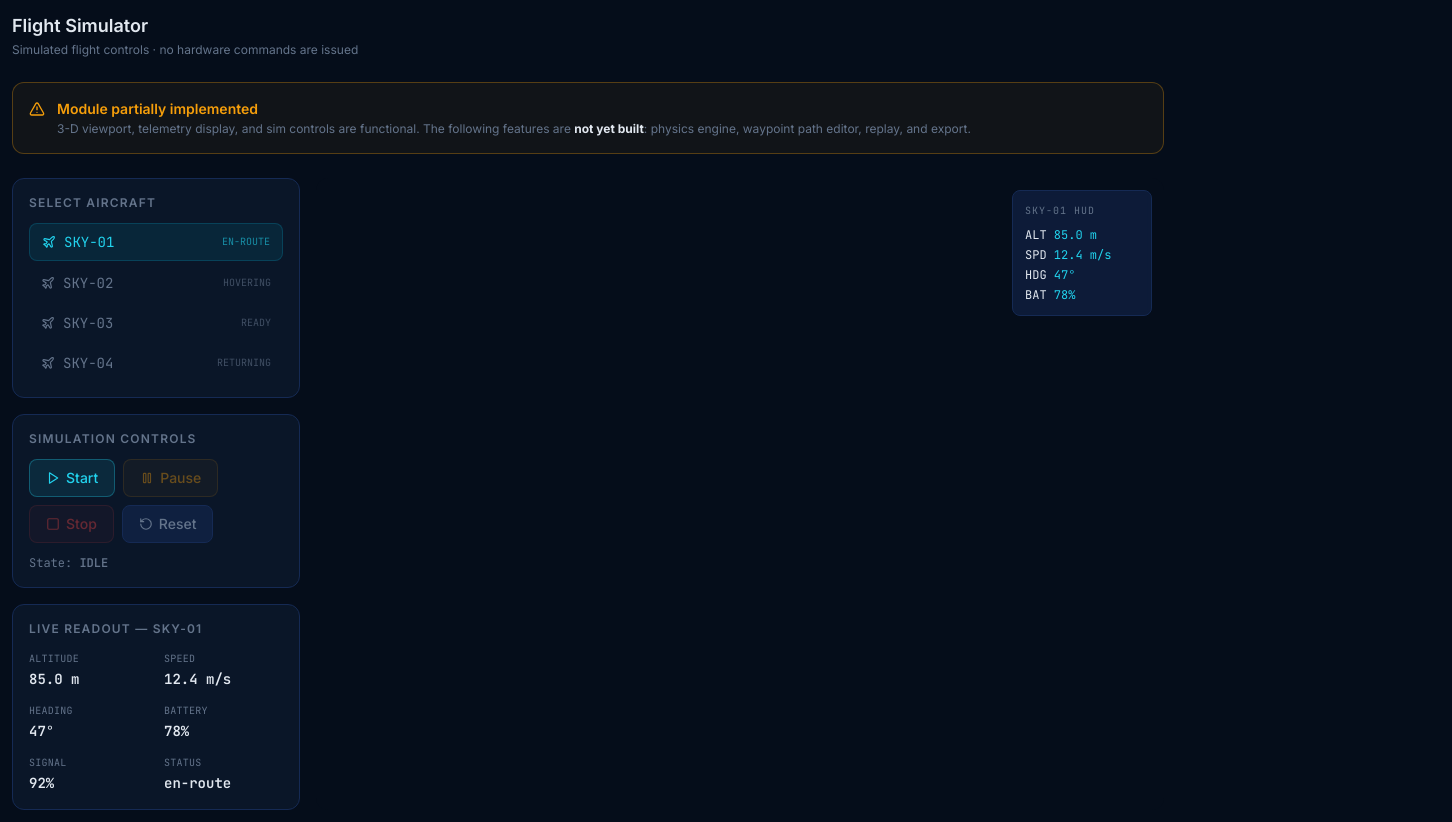
Scenario: FlightSimulatorPage › clicking Stop after Start disables Pause button
What coordinates should you click on to do the following:
click the button "Start"
I would click on:
 (72, 478)
Its box is [29,459,115,497].
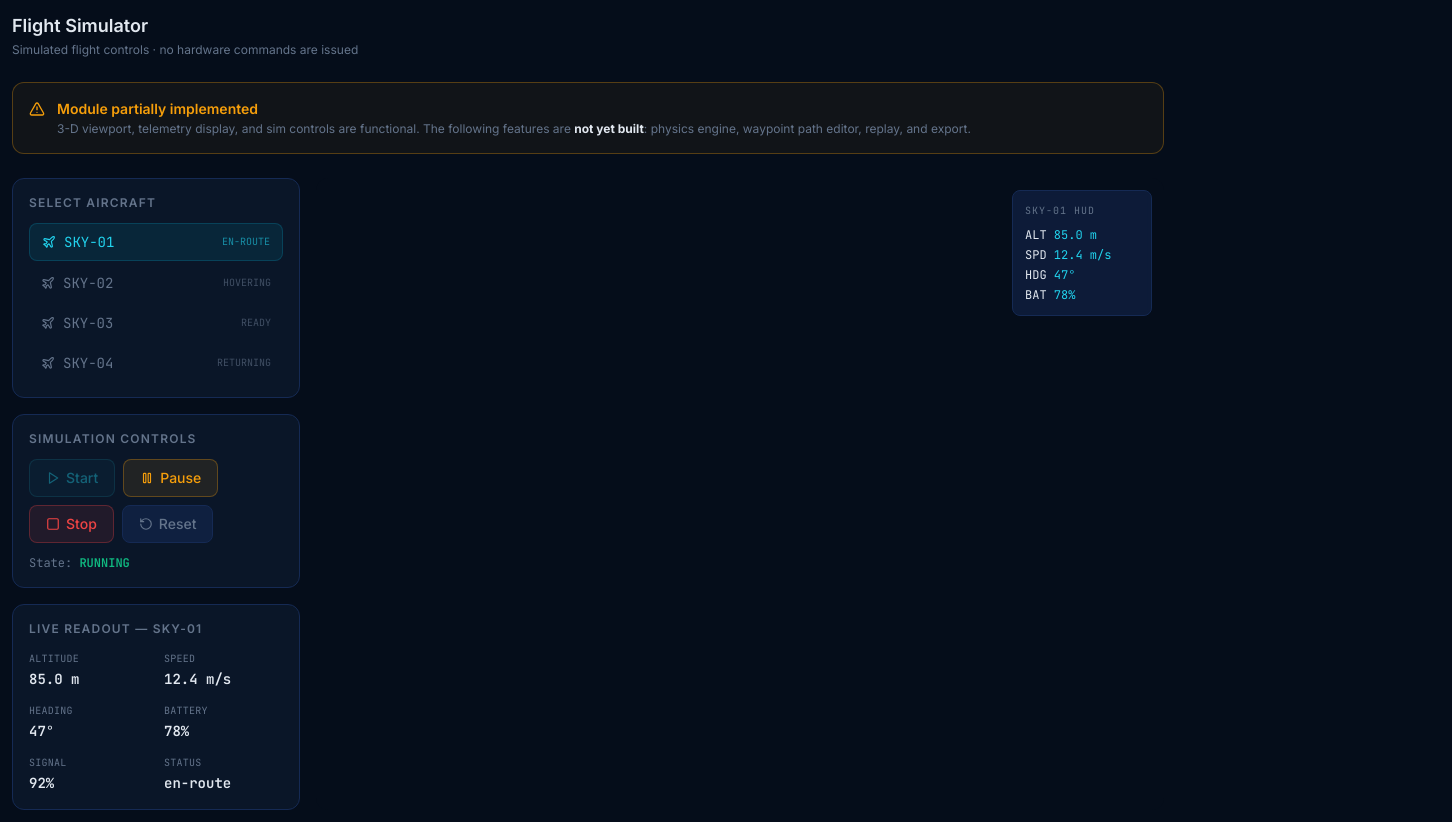
What coordinates should you click on to do the following:
click the button "Stop"
I would click on:
 (71, 524)
Its box is [29,505,114,543].
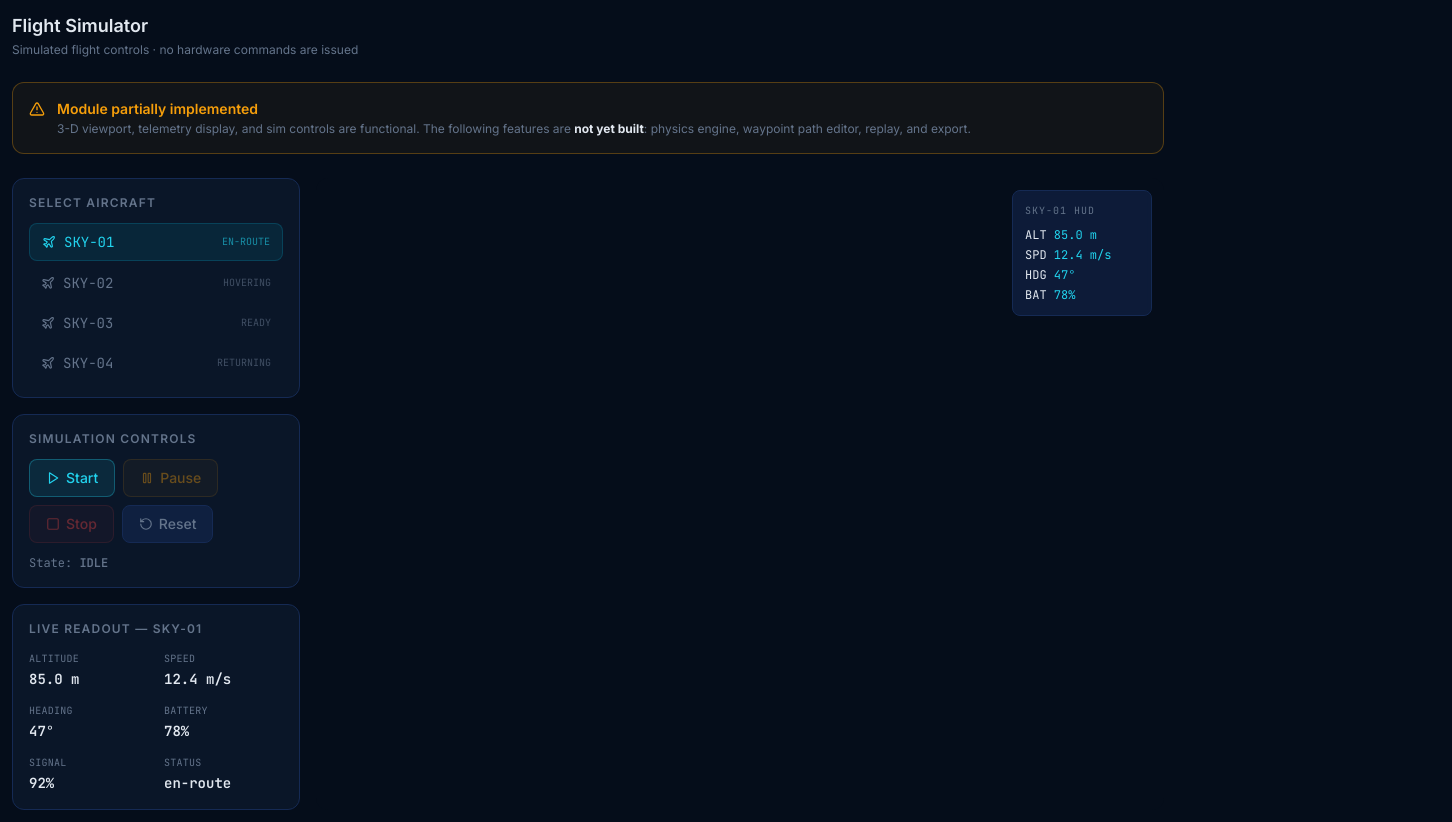
expect the button "Start" is shown: met, box [29,459,115,497]
expect the button "Pause" is disabled: met, box [123,459,218,497]
